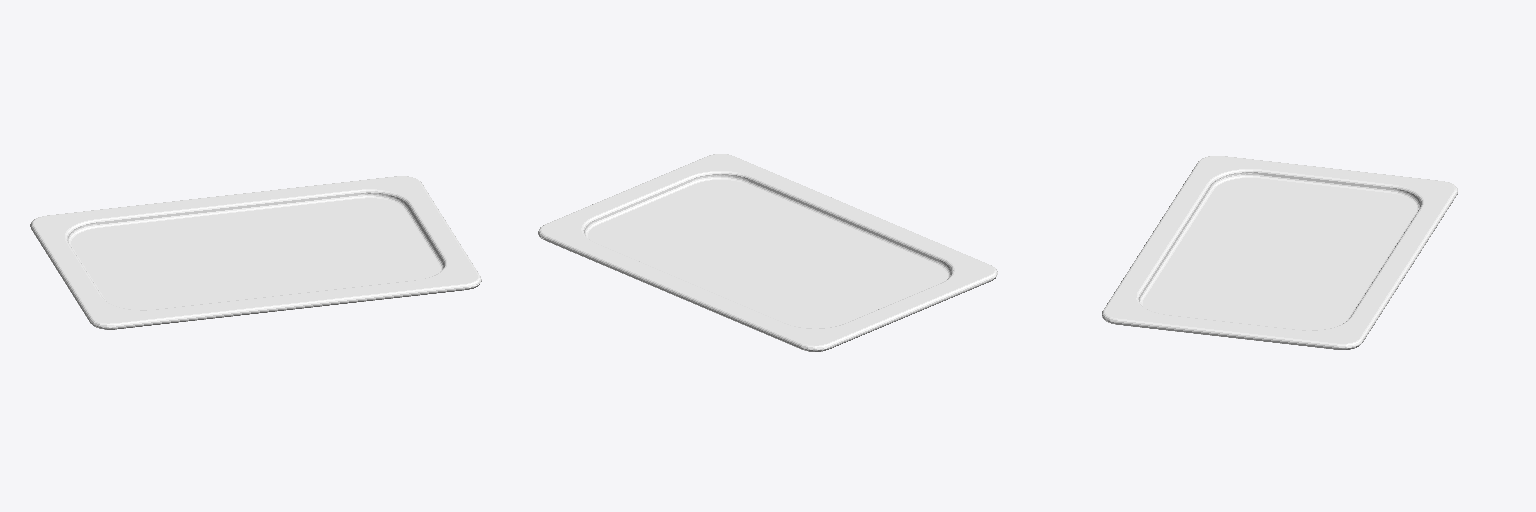
File: comida4cuartos.obj
3 views of the same model, side by side, from view 1: azimuth 30°, elevation 25°; view 2: azimuth 150°, elevation 25°; view 3: azimuth 270°, elevation 25° (orthographic).
Parts seen in each view (by area): view 1: .Tray_object_1; view 2: .Tray_object_1; view 3: .Tray_object_1.
Boxes of the visible parts, <box> form: .Tray_object_1: <box>30,176,481,329</box>; .Tray_object_1: <box>538,154,997,351</box>; .Tray_object_1: <box>1102,156,1457,349</box>.
Bounding box in the file's own units: 5.19 × 0.1549 × 4.1.